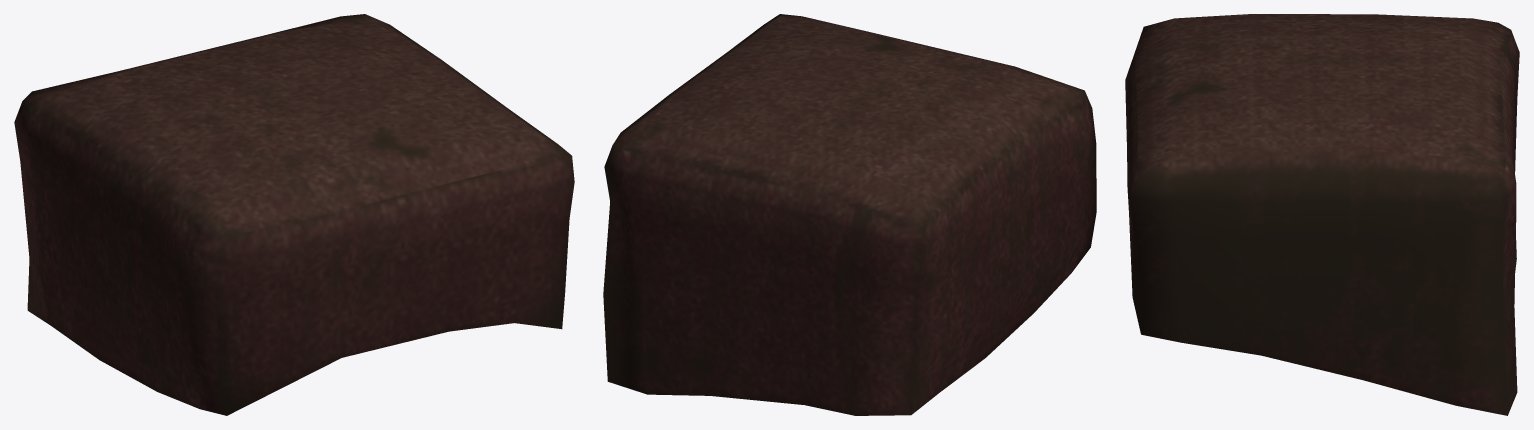
File: Box cloth.fbx
The picture shows the model from 3 angles, left to right: view 1: azimuth 30°, elevation 25°; view 2: azimuth 150°, elevation 25°; view 3: azimuth 270°, elevation 25°; orthographic projection. The views are drawn at different scales.
Parts seen in each view (by area): view 1: Plane; view 2: Plane; view 3: Plane.
Boxes of the visible parts, x1,y1,x2,y2 form: Plane: (14,14,574,415); Plane: (603,14,1096,415); Plane: (1125,14,1519,415).
Size of the model in its own units: 93.28 by 70.28 by 93.53.
